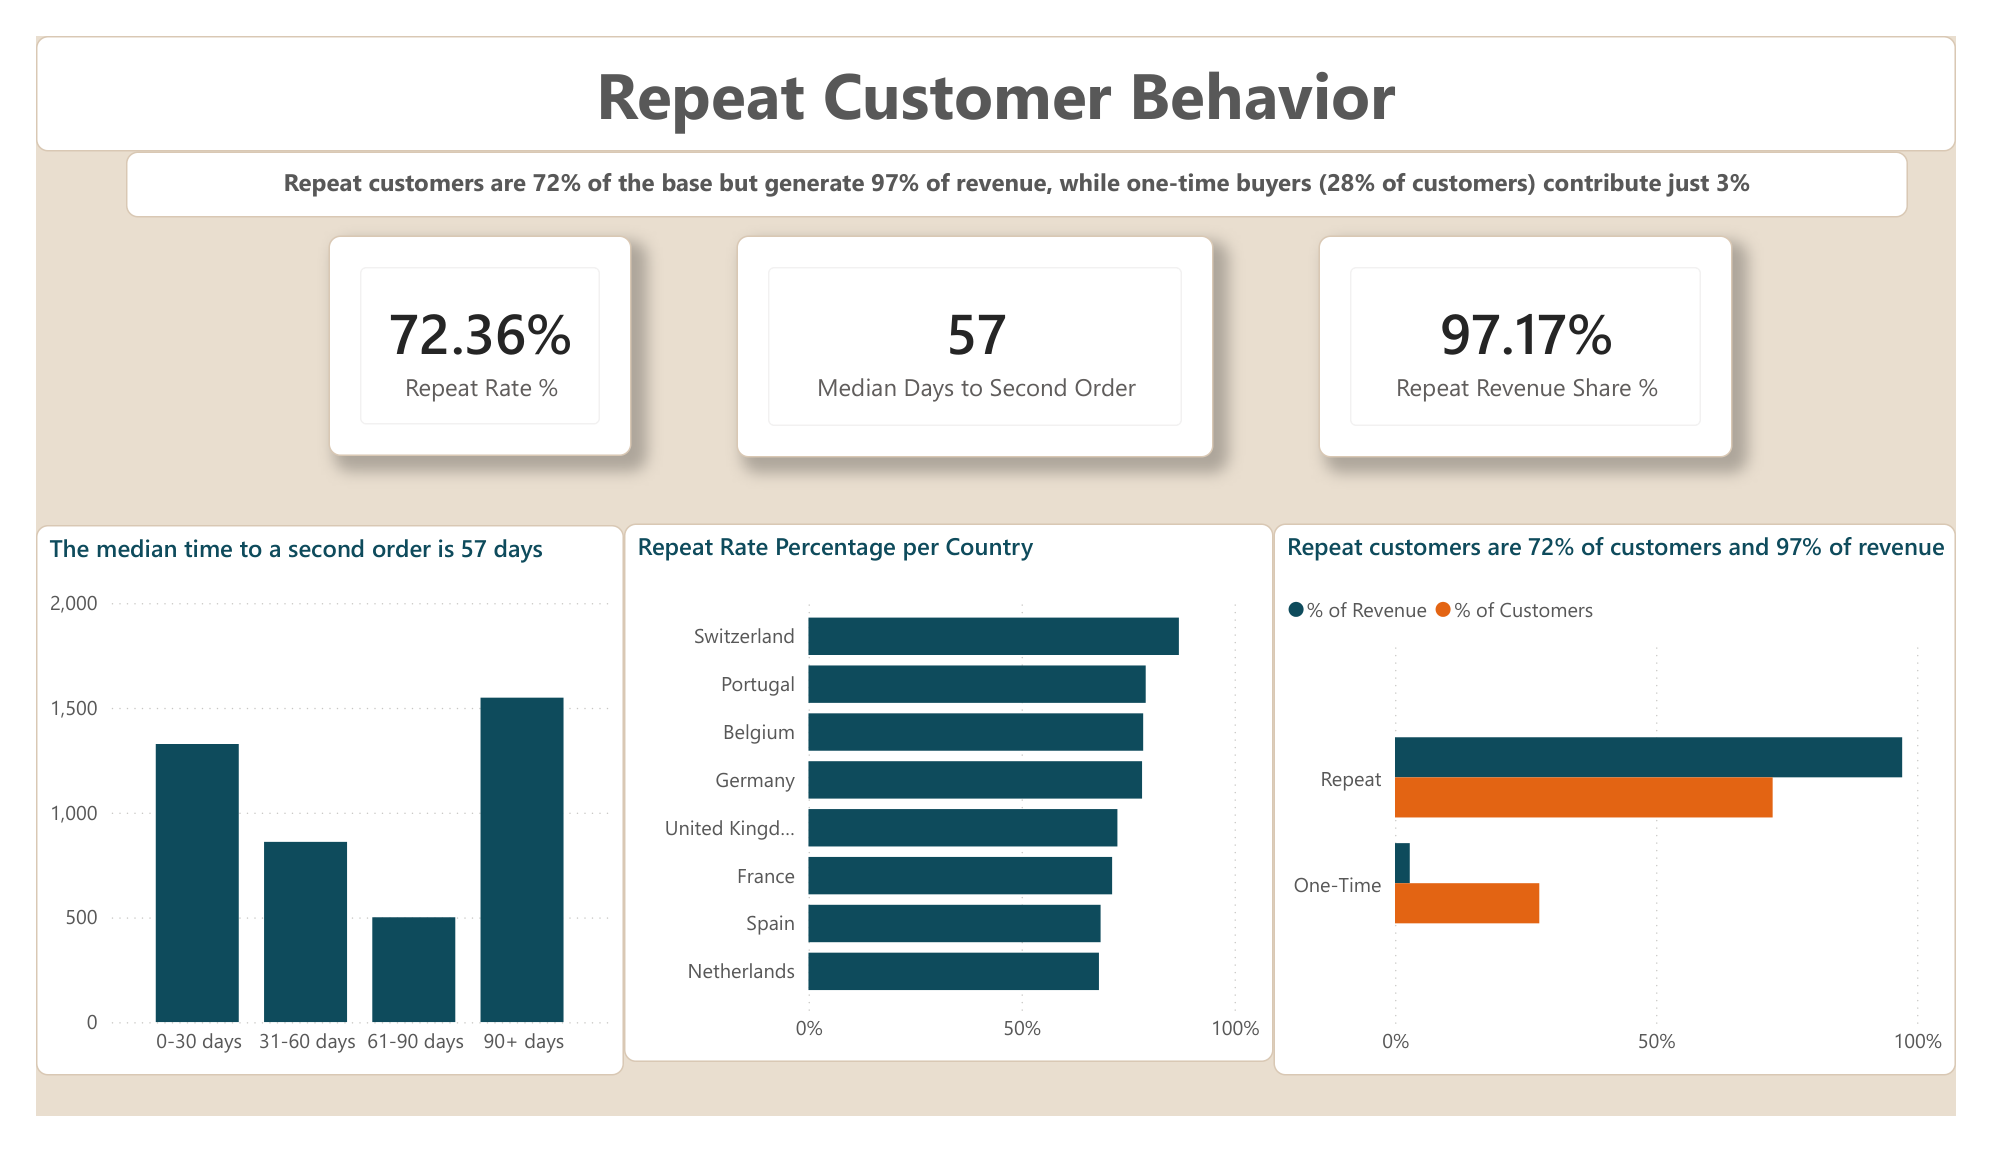

What the dashboard file says about the page in this screenshot:
{"tool":"powerbi","page":{"name":"Repeat Customer Behavior","canvas":[1280,720],"ordinal":2},"visuals":[{"type":"clusteredColumnChart","title":"The median time to a second order is 57 days","fields":{"Category":["rpt vw_customer_summary.Days to Second Order Bucket"],"Y":["Count(rpt vw_customer_summary.customer_id)"]},"box":[0,326.4,392.2,366.9],"z":4},{"type":"clusteredBarChart","title":"Repeat Rate Percentage per Country","fields":{"Category":["rpt vw_valid_sales.country_name"],"Y":["_Measures.Repeat Rate % by Country"]},"box":[392.2,325.1,432.7,359.3],"z":5},{"type":"clusteredBarChart","title":"Repeat customers are 72% of customers and 97% of revenue","fields":{"Category":["rpt vw_customer_summary.Customer Type"],"Y":["_Measures.% of Revenue","_Measures.% of Customers"]},"box":[824.8,325.1,455.4,368.1],"z":6},{"type":"textbox","box":[0,0,1279.8,77.3],"z":7},{"type":"textbox","box":[60.1,77.3,1187.7,44.2],"z":8},{"type":"cardVisual","fields":{"Data":["_Measures.Repeat Rate %"]},"box":[195.4,133.1,201.5,146.8],"z":10},{"type":"cardVisual","fields":{"Data":["_Measures.Median Days to Second Order"]},"box":[467.2,132.5,317.8,148.5],"z":11},{"type":"cardVisual","fields":{"Data":["_Measures.Repeat Revenue Share %"]},"box":[855.2,132.5,276.1,148.5],"z":12}]}

Visuals, with their boxes in screenshot pixels (x1, y1, x2, y2), scaled from the page's 1280x720 canvas onto the 1992x1152 screenshot:
"The median time to a second order is 57 days" clusteredColumnChart: [x1=0, y1=522, x2=610, y2=1109]
"Repeat Rate Percentage per Country" clusteredBarChart: [x1=610, y1=520, x2=1284, y2=1095]
"Repeat customers are 72% of customers and 97% of revenue" clusteredBarChart: [x1=1284, y1=520, x2=1991, y2=1109]
textbox: [x1=0, y1=0, x2=1991, y2=124]
textbox: [x1=94, y1=124, x2=1942, y2=194]
cardVisual - _Measures.Repeat Rate %: [x1=304, y1=213, x2=618, y2=448]
cardVisual - _Measures.Median Days to Second Order: [x1=727, y1=212, x2=1222, y2=450]
cardVisual - _Measures.Repeat Revenue Share %: [x1=1331, y1=212, x2=1761, y2=450]
